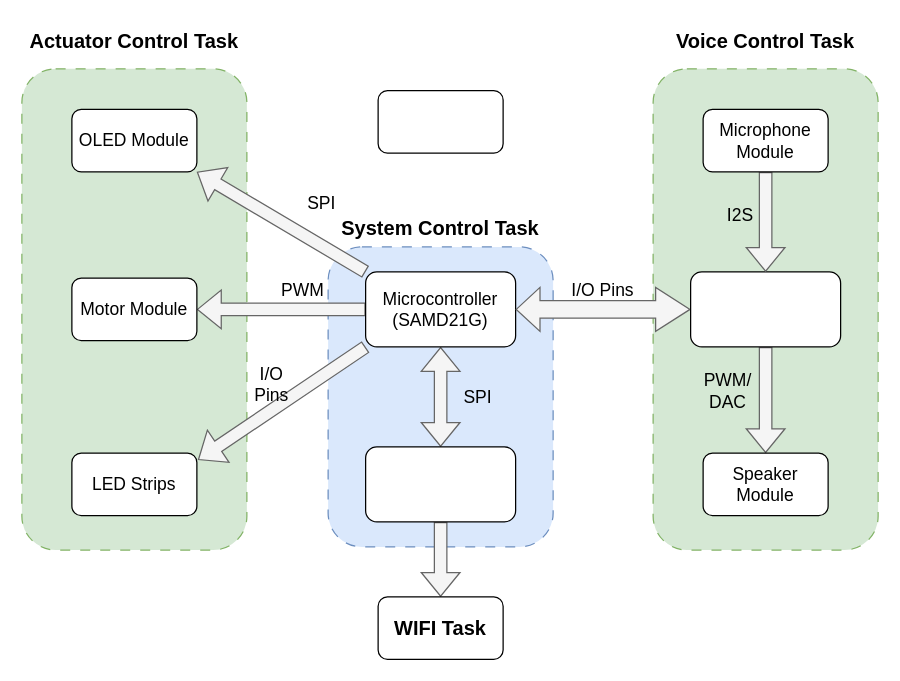
The diagram is 900 pixels wide and 681 high, and some of its shapes have lost their labels. Here are the shapes that lost their labels. From the top down, the centre of each, then its label:
At (440,121): "Power Module".
At (765,309): "AI Audio Module (VC-02)".
At (440,484): "WIFI Module (WINC1500)".
